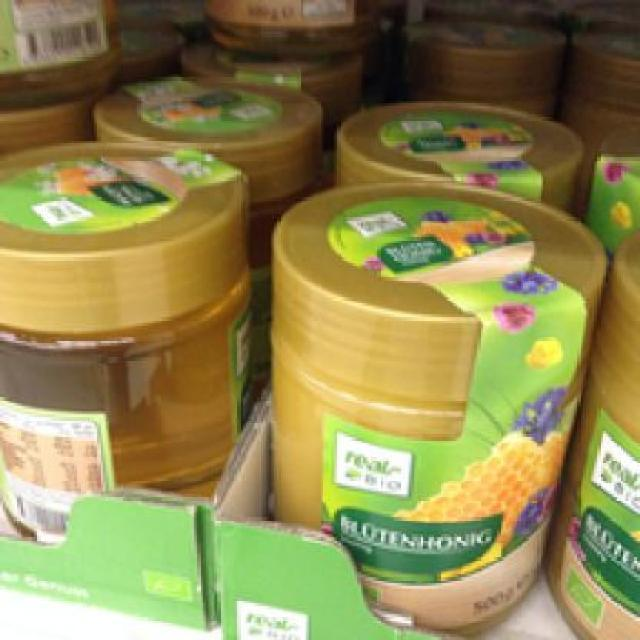Honey: (259, 177, 612, 634)
